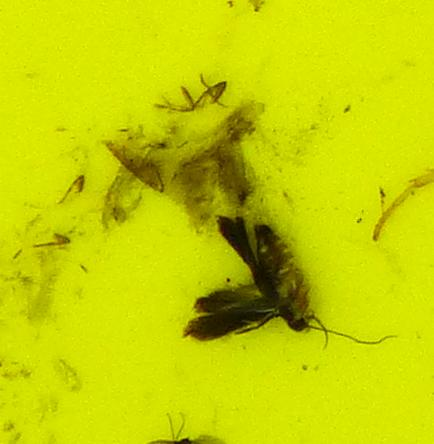Lepidoptera: (183, 213, 318, 343)
